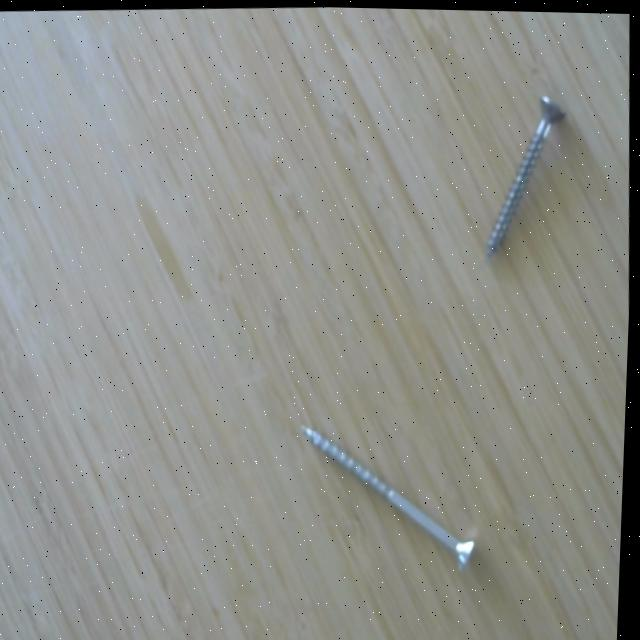Black screw: (478, 80, 578, 265)
Long screw: (294, 412, 485, 577)
